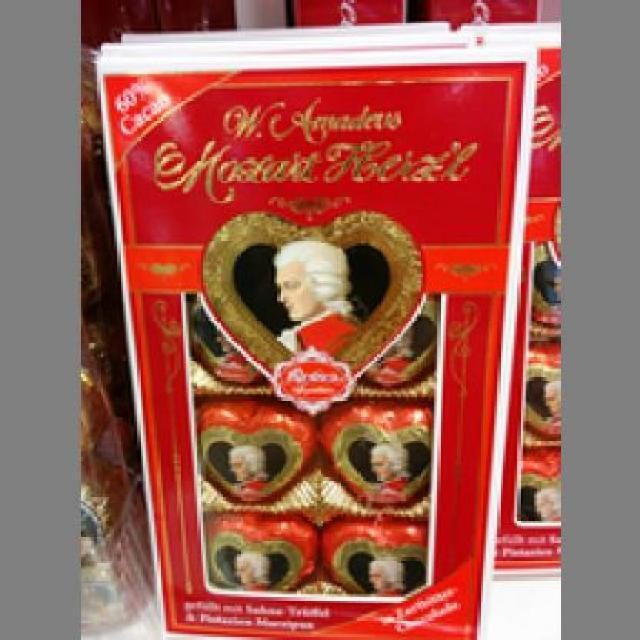Chocolate: (91, 37, 538, 634)
